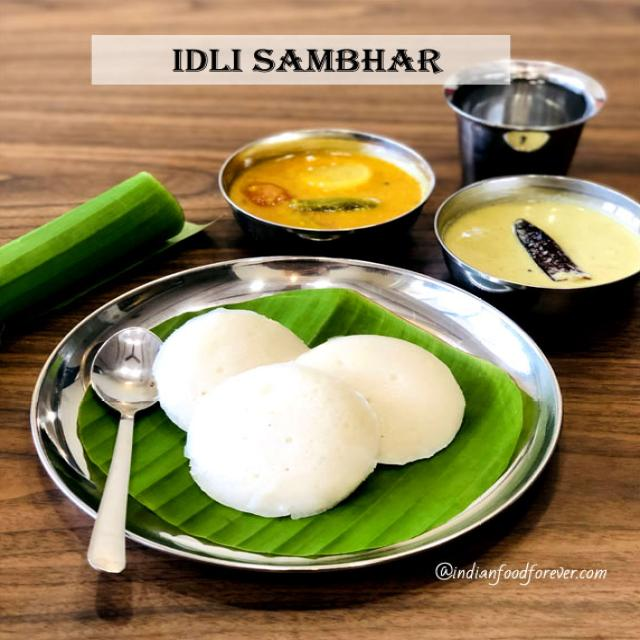chutney: (446, 178, 638, 316)
idli: (154, 317, 464, 512)
sambhar: (218, 130, 425, 250)
